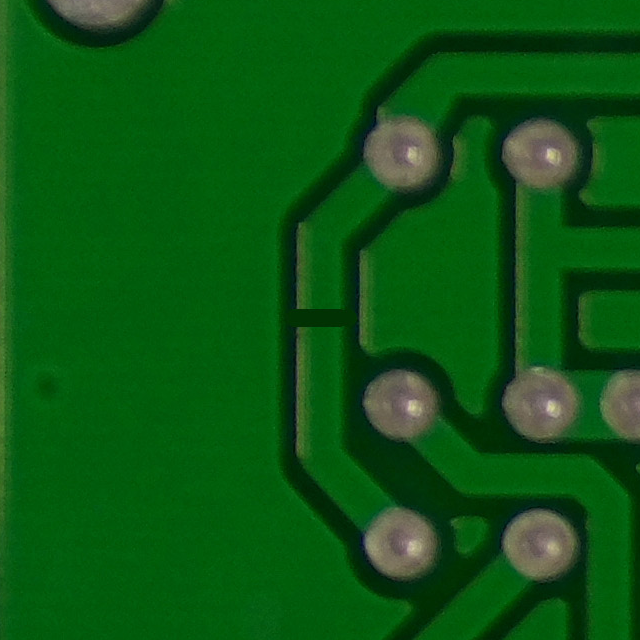open_circuit: (286, 293, 354, 347)
